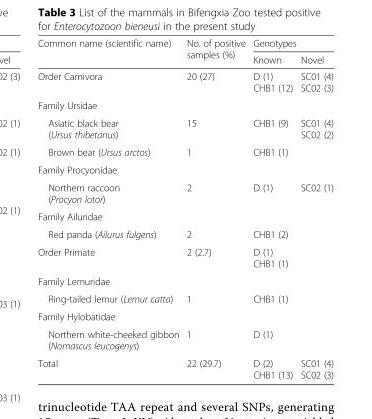table: (37, 37, 333, 379)
table column: (37, 37, 182, 379), (182, 37, 248, 379), (248, 37, 296, 379), (296, 37, 333, 379)
table column header: (37, 37, 333, 67)
table projected row header: (37, 160, 333, 178), (37, 207, 333, 225), (37, 271, 333, 289), (37, 96, 333, 113), (37, 307, 333, 324)
table row: (37, 324, 333, 354), (37, 67, 333, 96), (37, 113, 333, 142), (37, 178, 333, 207), (37, 242, 333, 271), (37, 354, 333, 379), (37, 142, 333, 160), (37, 160, 333, 178), (37, 207, 333, 225), (37, 271, 333, 289), (37, 289, 333, 307), (37, 50, 333, 67), (37, 96, 333, 113), (37, 225, 333, 242), (37, 307, 333, 324), (37, 37, 333, 50)
table spanning cell: (37, 37, 182, 67), (182, 37, 248, 67), (248, 37, 333, 50)
